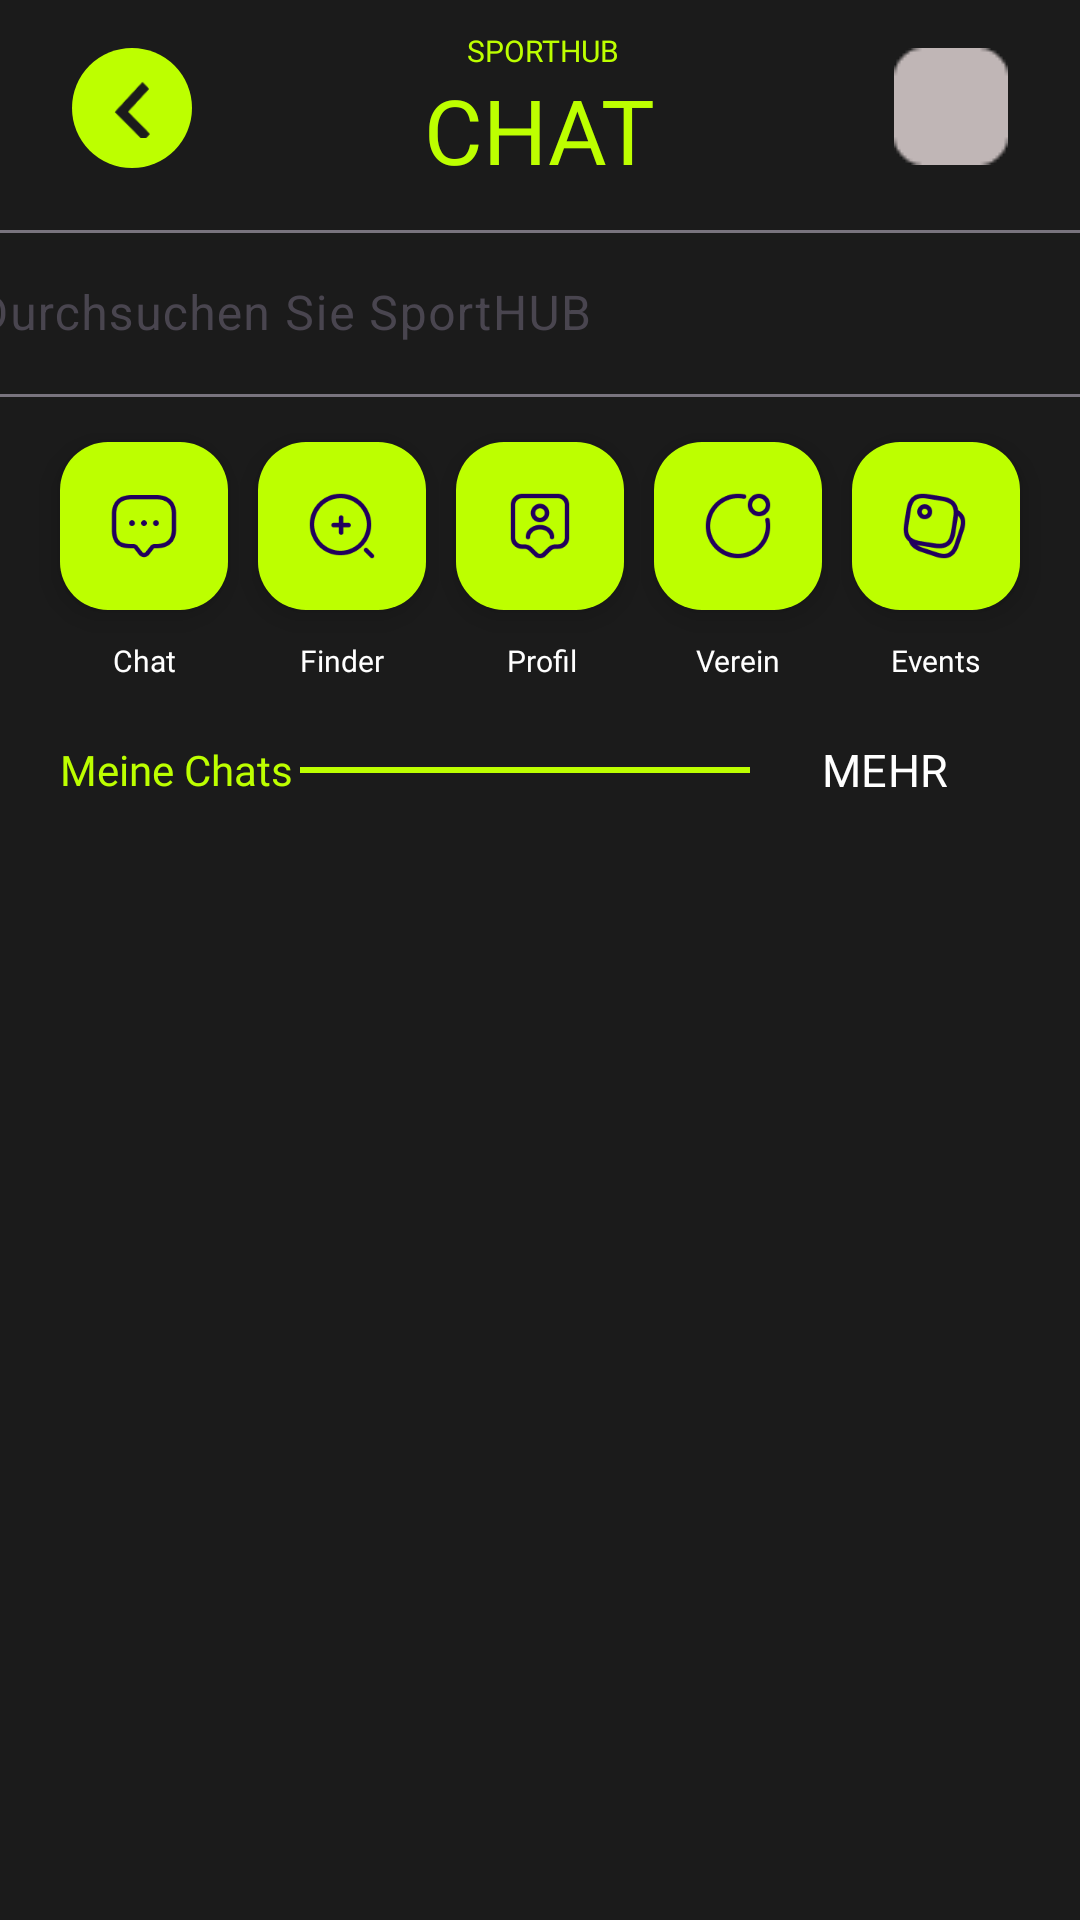

Where icons sit on this 1080px x 1920px app screen, as (x1, y1, x2, y2):
notification circle: (654, 442, 822, 610)
search zoom in: (258, 442, 426, 610)
user: (456, 442, 624, 610)
